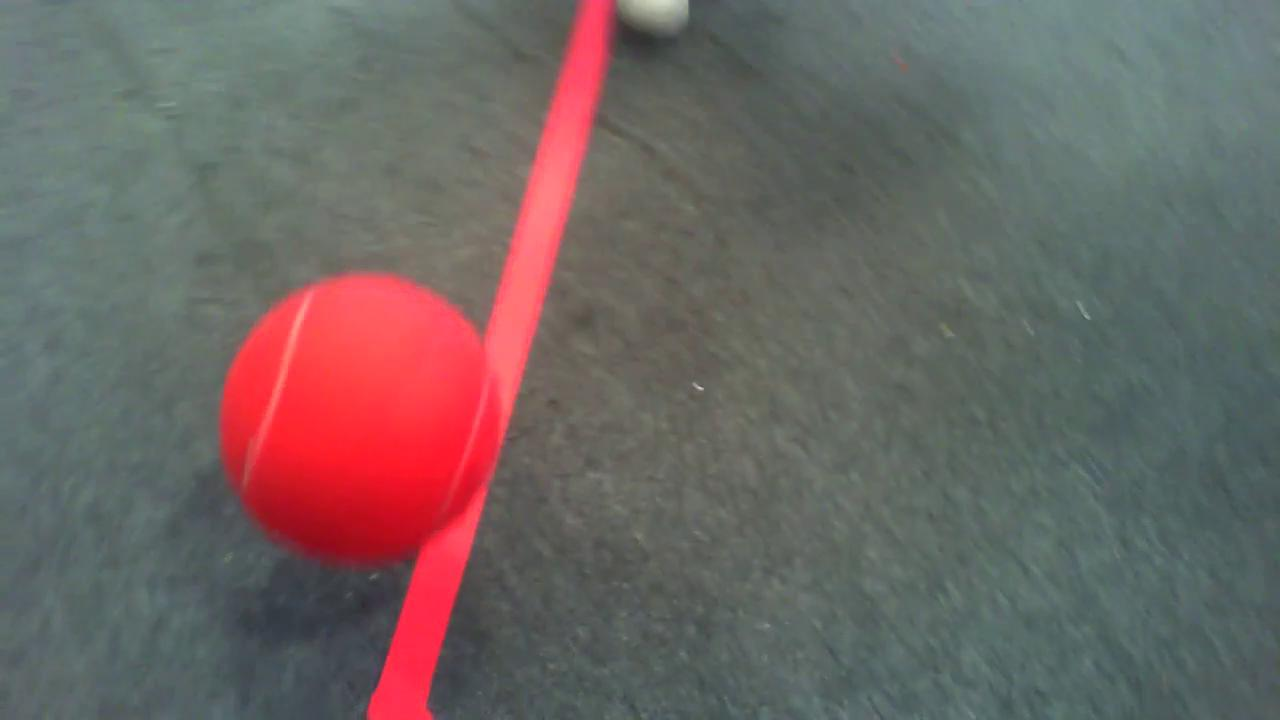Red_Ball: (199, 267, 499, 568)
